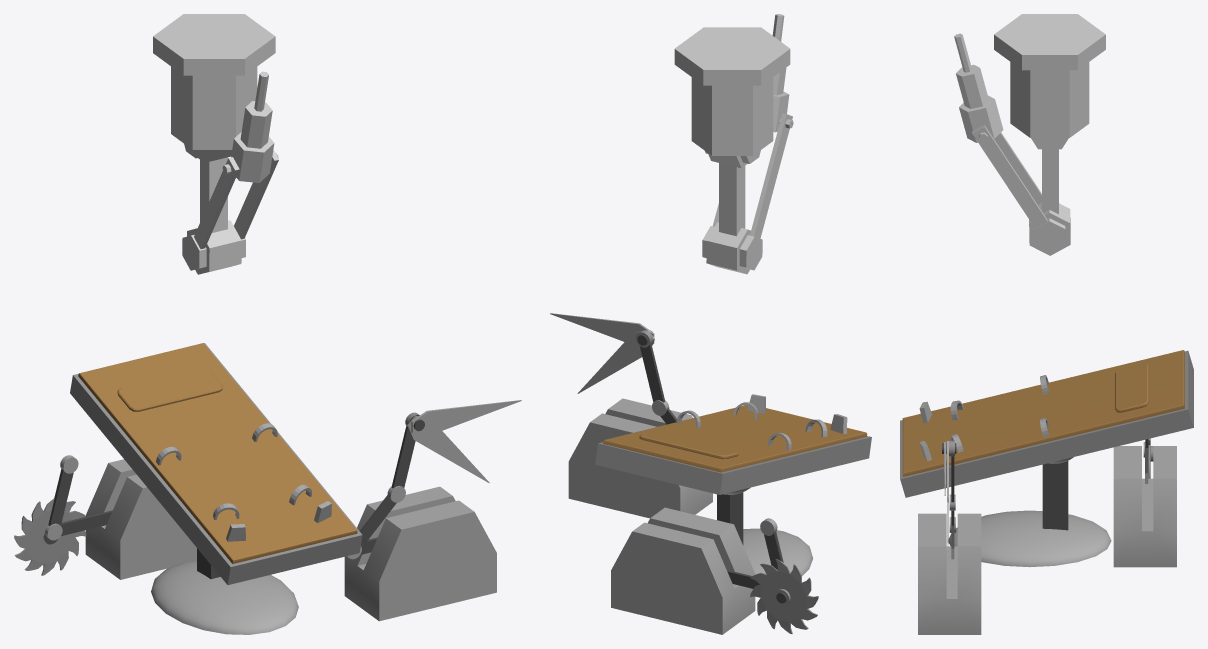
The model's file is operatingTable_rest.fbx.
3 views of the same model, side by side, from view 1: azimuth 30°, elevation 25°; view 2: azimuth 150°, elevation 25°; view 3: azimuth 270°, elevation 25° (orthographic). The views are drawn at different scales.
Visible parts, largest first — view 1: pCube1, pCube12, Base, pCube11, pSphere1, ArmUpper, Head, polySurface1, pCube2, ArmLower, pCube10, pCube9 (+2 smaller); view 2: pCube1, pCube11, Base, pCube12, ArmUpper, polySurface1, ArmLower, pSphere1, pCube10, pCube2, pCube9, Head (+2 smaller); view 3: pCube1, Base, pCube12, pCube11, pSphere1, ArmUpper, Head, pCube5, pCube2, ArmLower.
Boxes of the visible parts, x1,y1,x2,y2 form: pCube1: [70, 343, 362, 584]; pCube12: [344, 486, 496, 621]; Base: [153, 14, 275, 149]; pCube11: [85, 459, 196, 579]; pSphere1: [151, 561, 298, 634]; ArmUpper: [182, 150, 278, 274]; Head: [222, 71, 278, 182]; polySurface1: [14, 498, 86, 575]; pCube2: [117, 368, 222, 411]; ArmLower: [184, 144, 231, 232]; pCube10: [411, 400, 521, 435]; pCube9: [407, 415, 489, 483]; pCube1: [595, 405, 871, 494]; pCube11: [611, 507, 755, 634]; Base: [674, 27, 790, 155]; pCube12: [568, 398, 712, 518]; ArmUpper: [702, 113, 792, 274]; polySurface1: [750, 559, 818, 633]; ArmLower: [705, 150, 760, 236]; pSphere1: [743, 528, 812, 575]; pCube10: [550, 313, 654, 344]; pCube2: [639, 431, 738, 459]; pCube9: [577, 330, 654, 393]; Head: [772, 14, 793, 132]; pCube1: [900, 350, 1193, 497]; Base: [994, 14, 1105, 137]; pCube12: [918, 513, 981, 634]; pCube11: [1113, 446, 1176, 567]; pSphere1: [948, 510, 1111, 567]; ArmUpper: [972, 125, 1070, 255]; Head: [954, 33, 1003, 142]; pCube5: [1042, 461, 1068, 530]; pCube2: [1115, 363, 1148, 412]; ArmLower: [1031, 138, 1068, 214].
Bounding box in the file's own units: 2.91 × 3.9 × 2.05.
